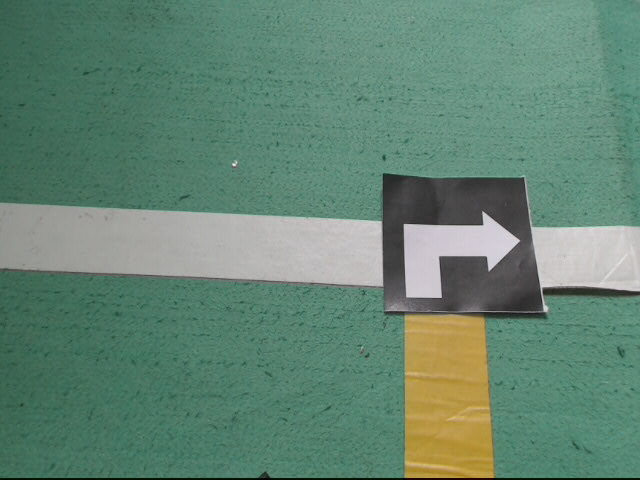right: (379, 172, 550, 317)
